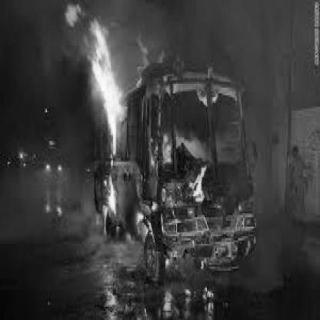Fire: (63, 0, 213, 240)
